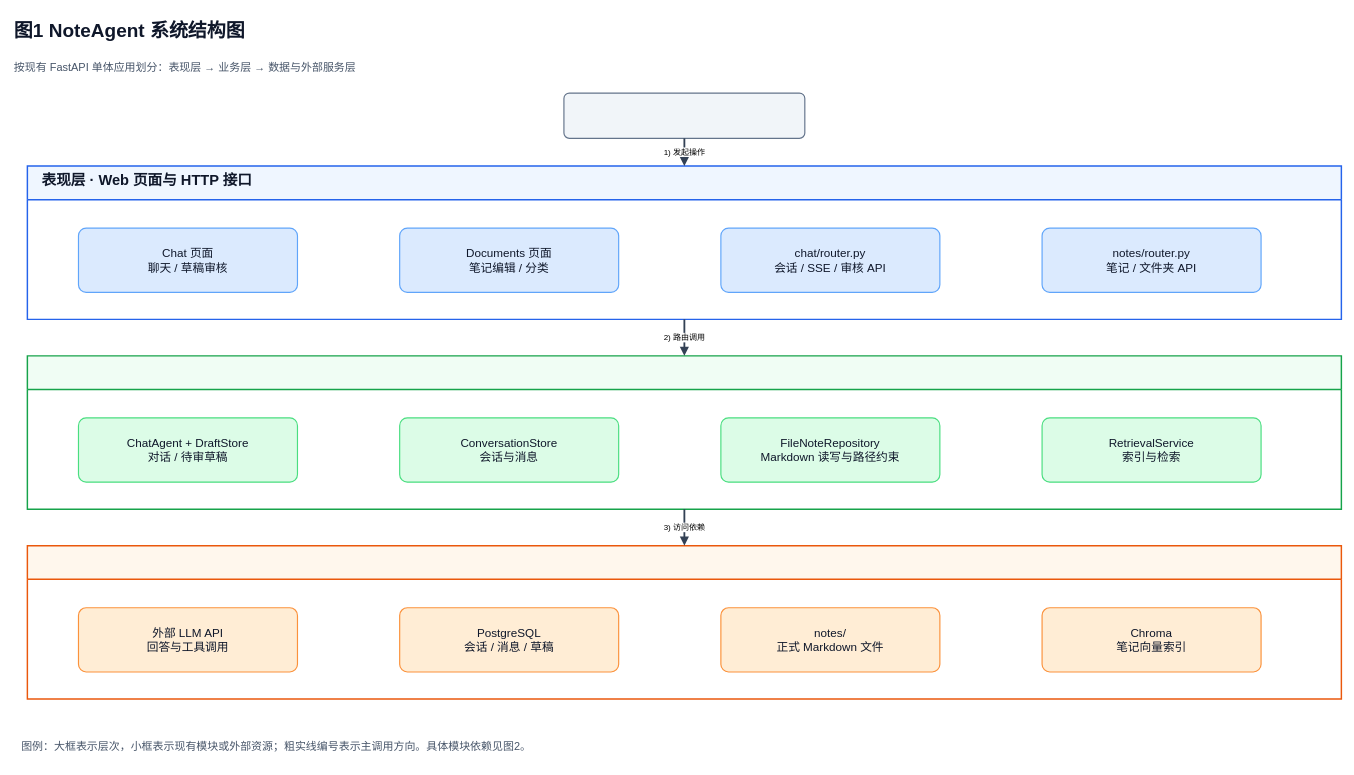
Image size: 1354x775. Some labels were removed from this diagram. The shapes that lost their labels are listed below. From the top down, each one's box as (x1, y1, x2, y2) in pixels, then its label:
(563, 92, 805, 139): 学习者（本地单用户）
(26, 355, 1342, 510): 业务层 · 用例编排与领域能力
(26, 545, 1342, 699): 数据与外部服务层 · 适配与持久化
